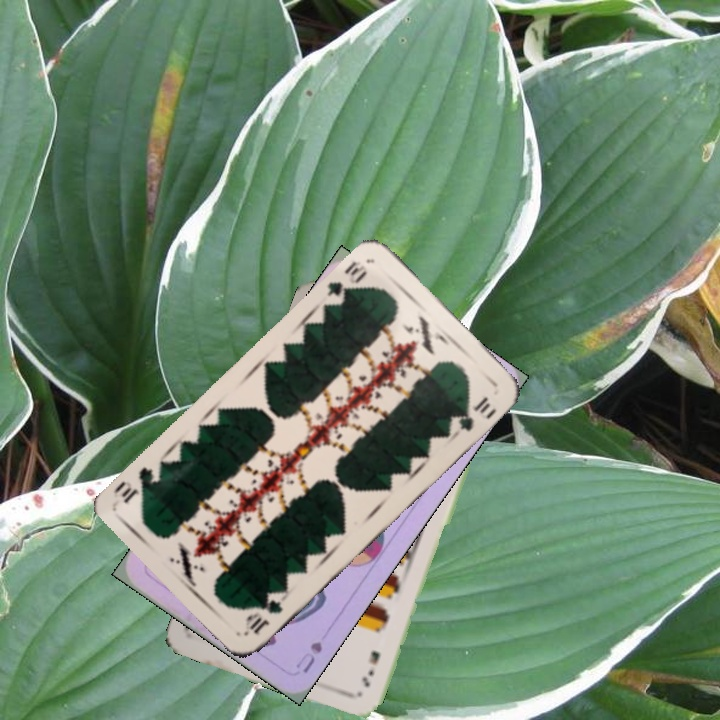E7: (357, 647, 383, 690)
G10: (322, 256, 370, 309), (241, 595, 286, 636)
SU: (291, 637, 325, 676)
